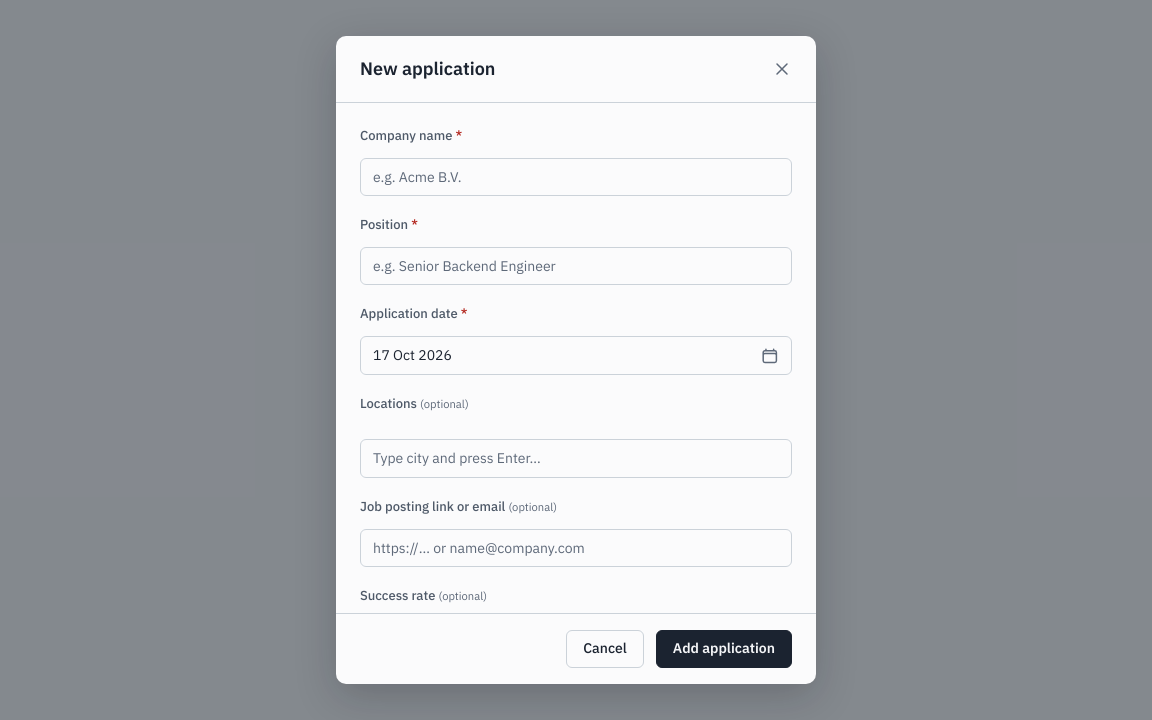
NewApplicationModal – parse job link › does not overwrite a company the user already typed
Type "My Typed Co" into the dropdown with id "company-name".
click(576, 177); type("My Typed Co")  # box [360,158,792,196]
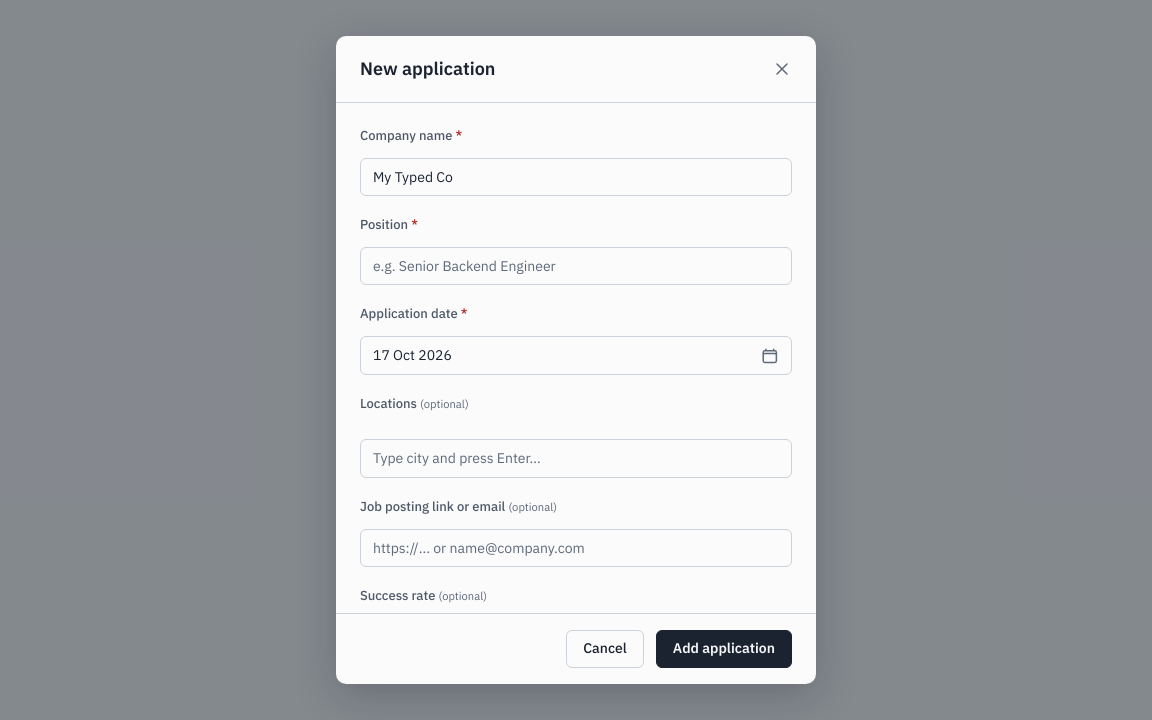
Type "https://example.com/job/1" into the field with id "new-app-joburl".
click(576, 548); type("https://example.com/job/1")  # box [360,528,792,567]
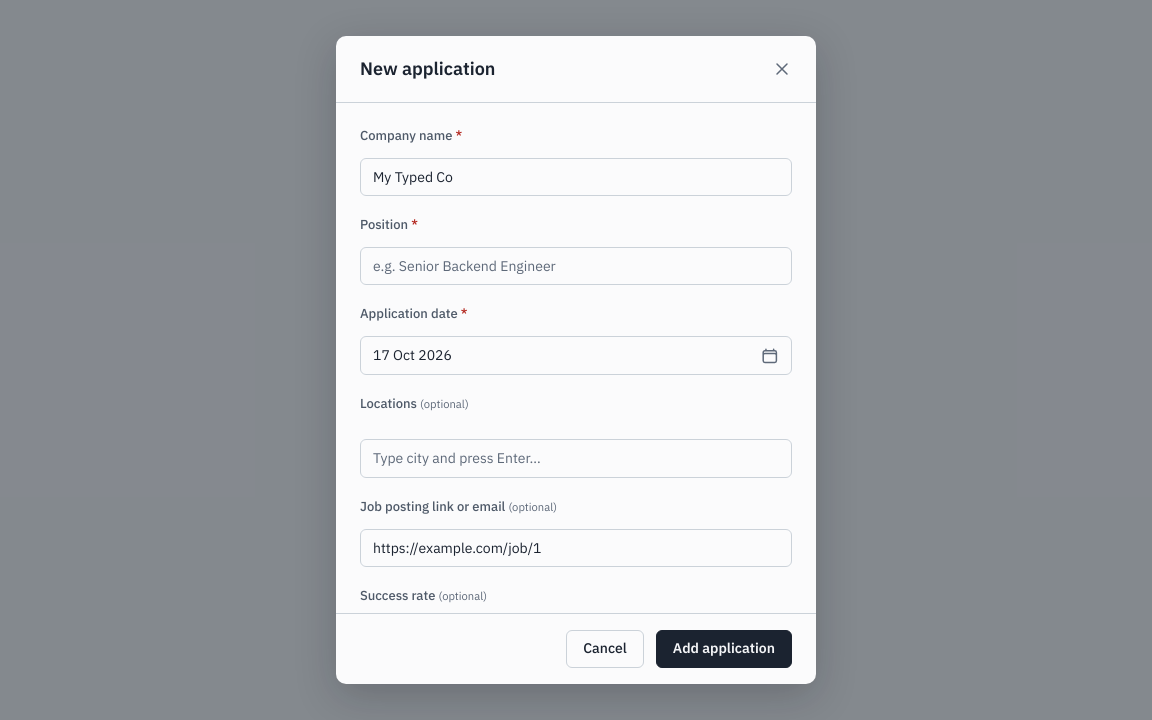
Leave the field with id "new-app-joburl", box [360,528,792,567]
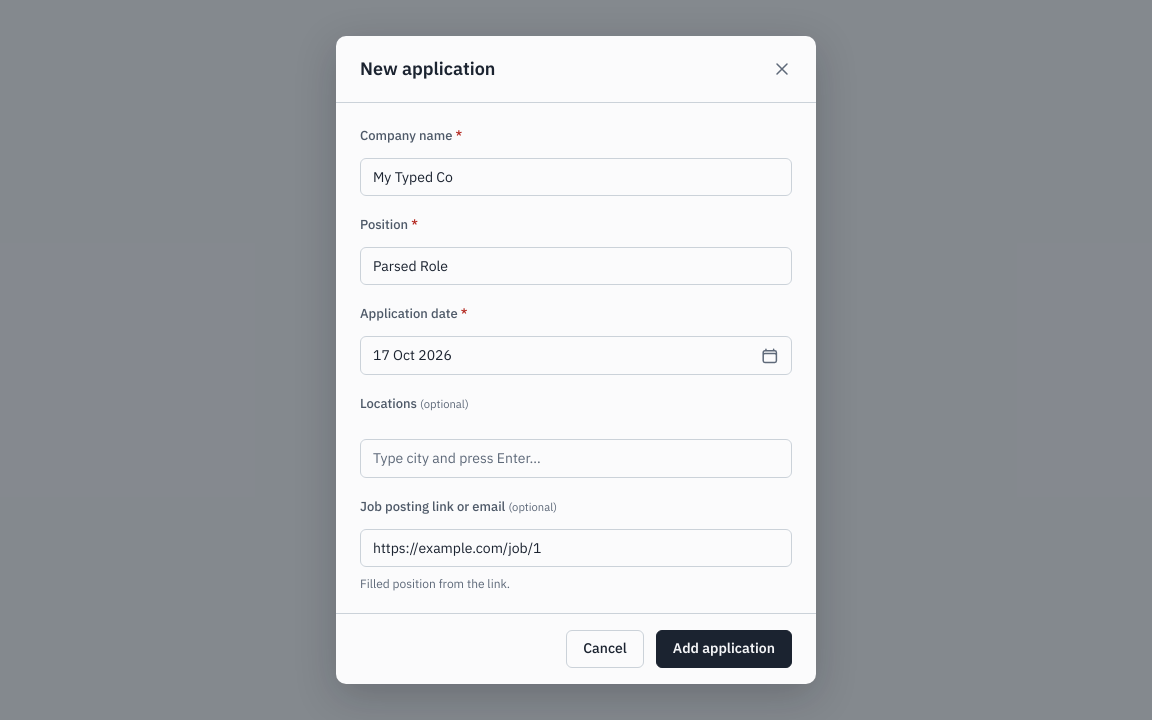
expect the field labelled "Position *" holds "Parsed Role": met, box [360,247,792,285]
